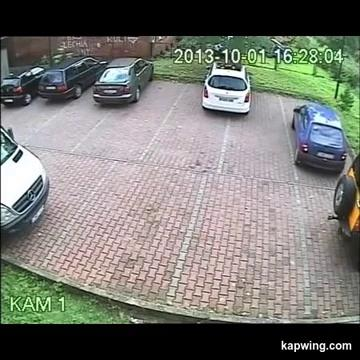car: (0, 126, 49, 235), (291, 103, 346, 172), (328, 154, 359, 269), (39, 56, 107, 99), (93, 57, 153, 103), (202, 62, 250, 113), (1, 66, 45, 105)
